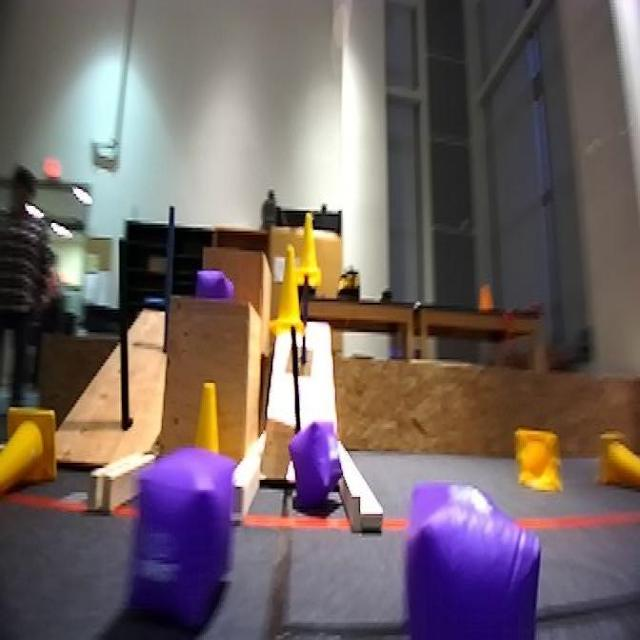frc_cone: (0, 400, 58, 512), (507, 425, 562, 487), (186, 374, 228, 453), (276, 264, 312, 345), (599, 434, 640, 492), (296, 213, 321, 293)
frc_cube: (390, 488, 537, 640), (112, 444, 221, 632), (290, 412, 346, 514), (192, 269, 230, 306)
